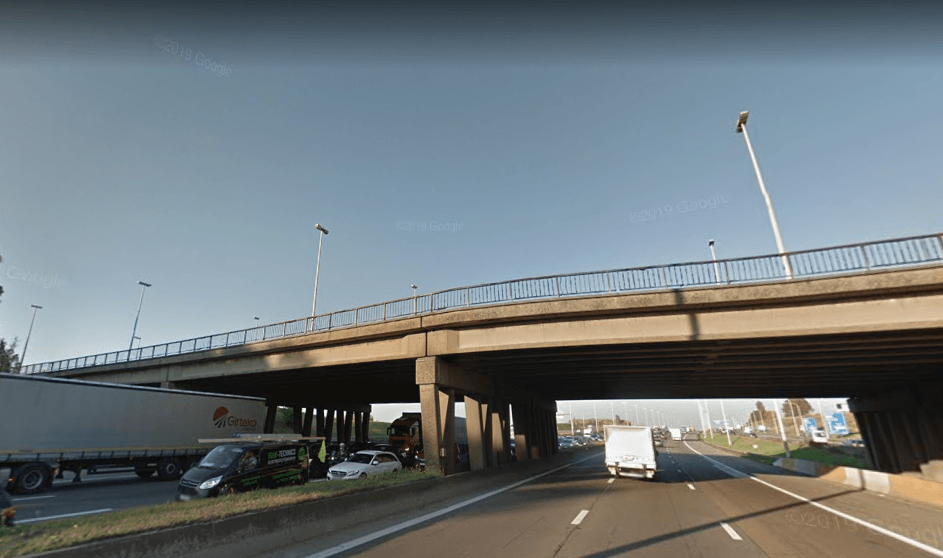bridge: (7, 232, 939, 402)
